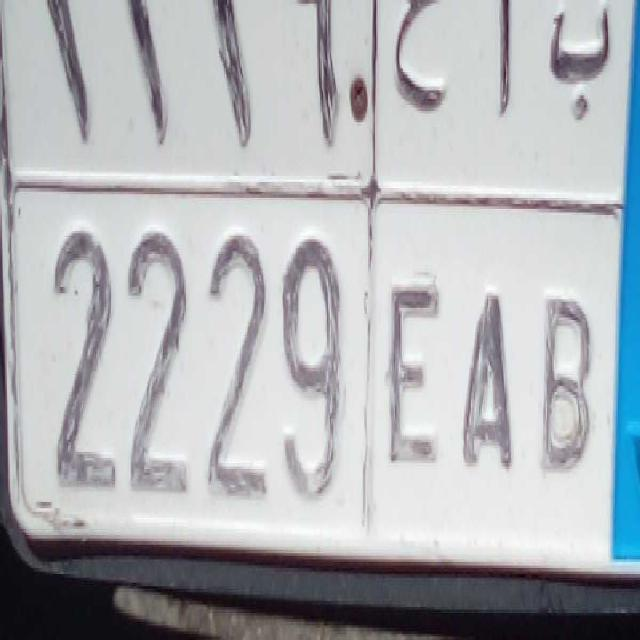license_plate: (19, 177, 612, 570)
